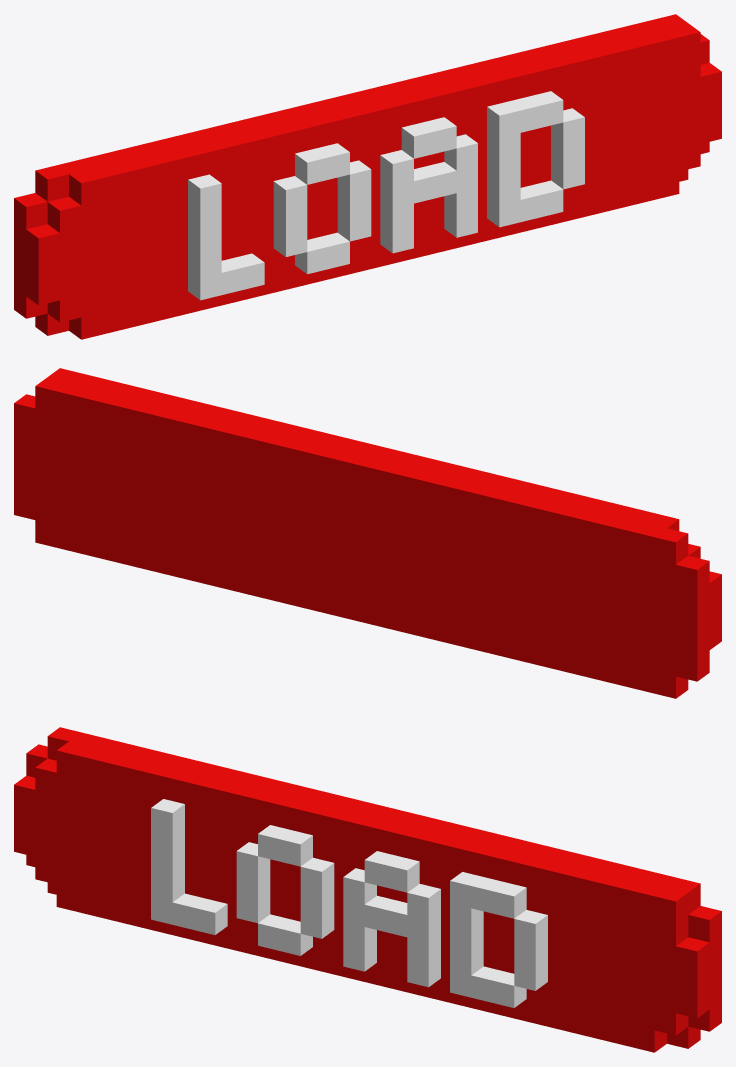
Rendered from load.obj.
3 renders of one model, top to bottom at view 1: azimuth 30°, elevation 25°; view 2: azimuth 150°, elevation 25°; view 3: azimuth 330°, elevation 25°, orthographic.
Visible parts, largest first — view 1: load; view 2: load; view 3: load.
Part boxes in pixels (x1,y1,x2,y2): load: (14, 14, 721, 339); load: (14, 368, 721, 698); load: (14, 727, 721, 1052).
Bounding box in the file's own units: 32 × 7 × 3.
1 material, 1 textured.
